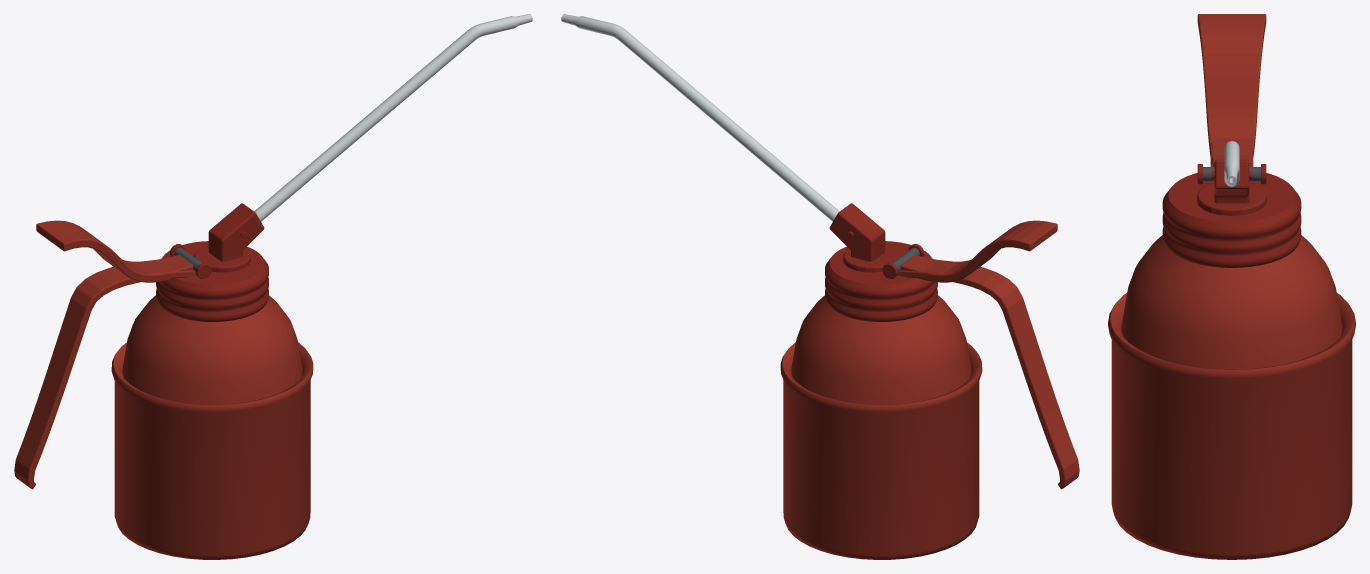
The picture shows the model from 3 angles, left to right: view 1: azimuth 30°, elevation 25°; view 2: azimuth 150°, elevation 25°; view 3: azimuth 270°, elevation 25°; orthographic projection. The views are drawn at different scales.
Parts seen in each view (by area): view 1: Reservoir_with_inset_shoulder_and_rolled_rim, Fixed_descending_open_handgrip, Closed_ribbed_pump_collar, Rigid_bent_spout_with_open_tip, Upturned_thumb_pump_lever, Angled_spout_socket, Spout_mount_round_foot; view 2: Reservoir_with_inset_shoulder_and_rolled_rim, Fixed_descending_open_handgrip, Closed_ribbed_pump_collar, Rigid_bent_spout_with_open_tip, Upturned_thumb_pump_lever, Angled_spout_socket, Spout_mount_round_foot; view 3: Reservoir_with_inset_shoulder_and_rolled_rim, Closed_ribbed_pump_collar, Upturned_thumb_pump_lever, Spout_mount_round_foot, Angled_spout_socket, Rigid_bent_spout_with_open_tip, Fixed_descending_open_handgrip, Lever_pivot_cross_axle.
Boxes of the visible parts, x1,y1,x2,y2 form: Reservoir_with_inset_shoulder_and_rolled_rim: [111, 295, 313, 559]; Fixed_descending_open_handgrip: [14, 260, 196, 489]; Closed_ribbed_pump_collar: [156, 241, 268, 321]; Rigid_bent_spout_with_open_tip: [254, 14, 532, 221]; Upturned_thumb_pump_lever: [36, 220, 193, 282]; Angled_spout_socket: [208, 203, 264, 261]; Spout_mount_round_foot: [194, 245, 250, 272]; Reservoir_with_inset_shoulder_and_rolled_rim: [780, 295, 982, 559]; Fixed_descending_open_handgrip: [897, 260, 1079, 489]; Closed_ribbed_pump_collar: [825, 241, 937, 321]; Rigid_bent_spout_with_open_tip: [561, 14, 839, 221]; Upturned_thumb_pump_lever: [900, 220, 1057, 282]; Angled_spout_socket: [829, 203, 885, 261]; Spout_mount_round_foot: [843, 245, 899, 272]; Reservoir_with_inset_shoulder_and_rolled_rim: [1108, 235, 1355, 559]; Closed_ribbed_pump_collar: [1162, 173, 1301, 267]; Upturned_thumb_pump_lever: [1197, 14, 1266, 166]; Spout_mount_round_foot: [1197, 183, 1266, 215]; Angled_spout_socket: [1214, 159, 1249, 203]; Rigid_bent_spout_with_open_tip: [1224, 141, 1239, 186]; Fixed_descending_open_handgrip: [1210, 140, 1253, 166]; Lever_pivot_cross_axle: [1203, 167, 1260, 181].
Bounding box in the file's own units: 0.2099 × 0.1696 × 0.072.
